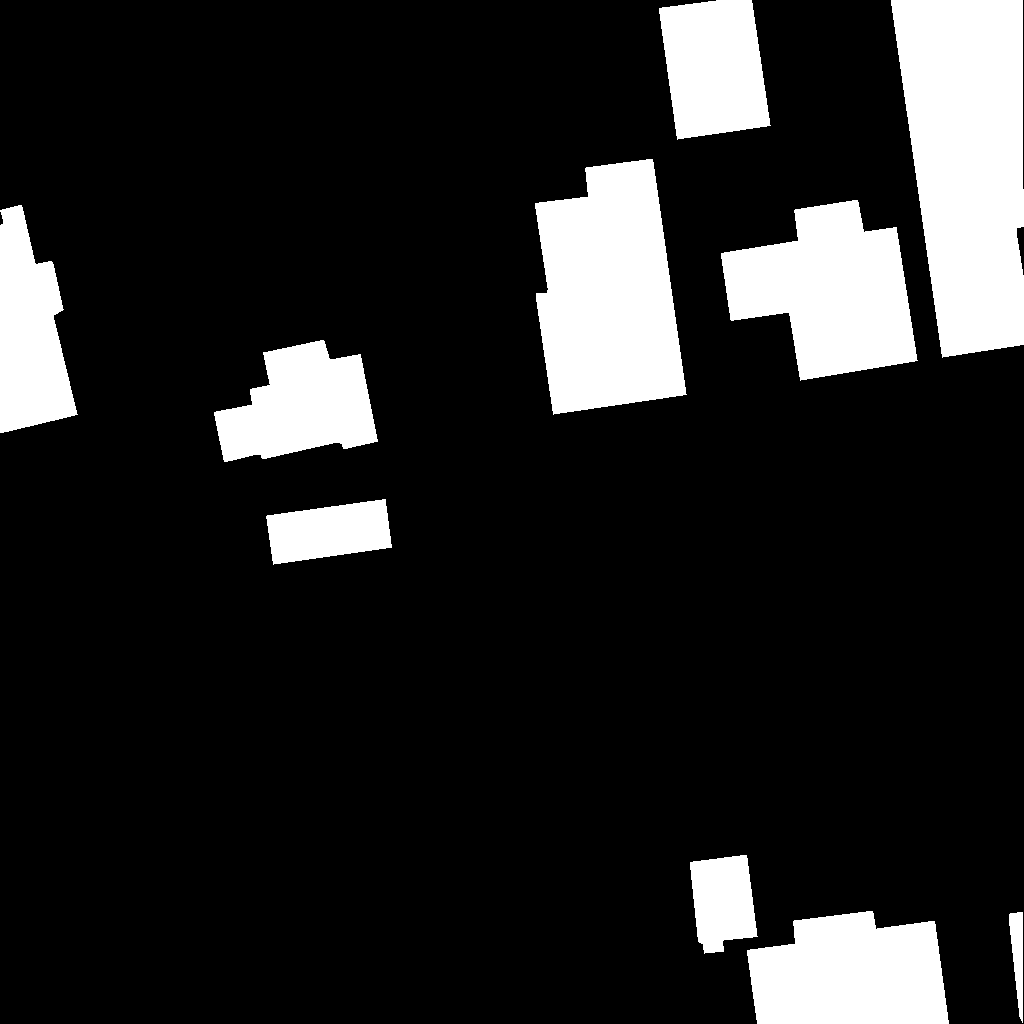building: (891, 0, 1024, 358), (535, 159, 687, 415), (721, 200, 918, 381), (747, 911, 950, 1024), (214, 340, 379, 463), (0, 205, 78, 434), (659, 0, 771, 140), (266, 499, 393, 565), (690, 855, 758, 954), (1009, 912, 1024, 1024)
